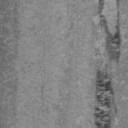oxide scale of plate system: (93, 0, 123, 128)
